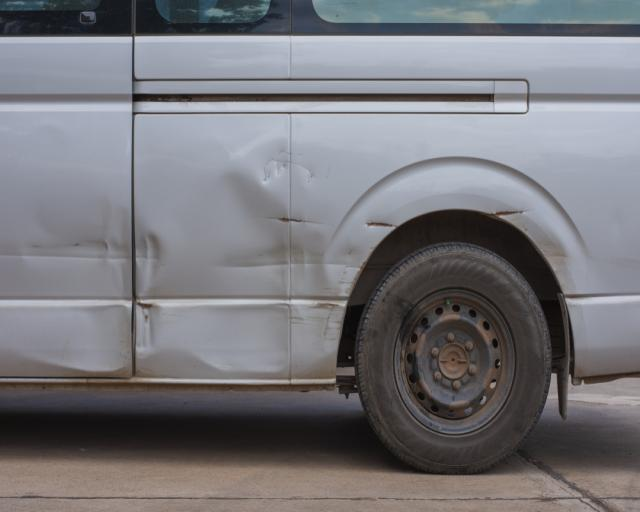dent: (132, 136, 360, 381), (0, 195, 132, 379), (538, 234, 568, 269), (489, 209, 530, 217), (365, 222, 400, 228)
